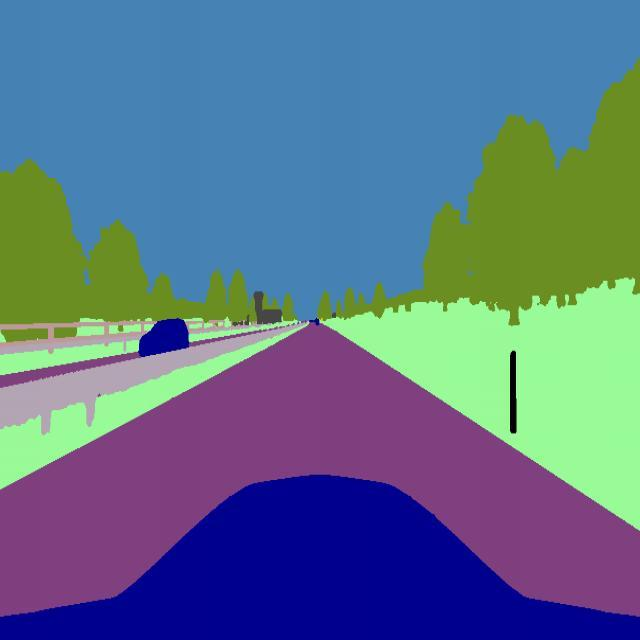safe: (137, 314, 191, 362)
